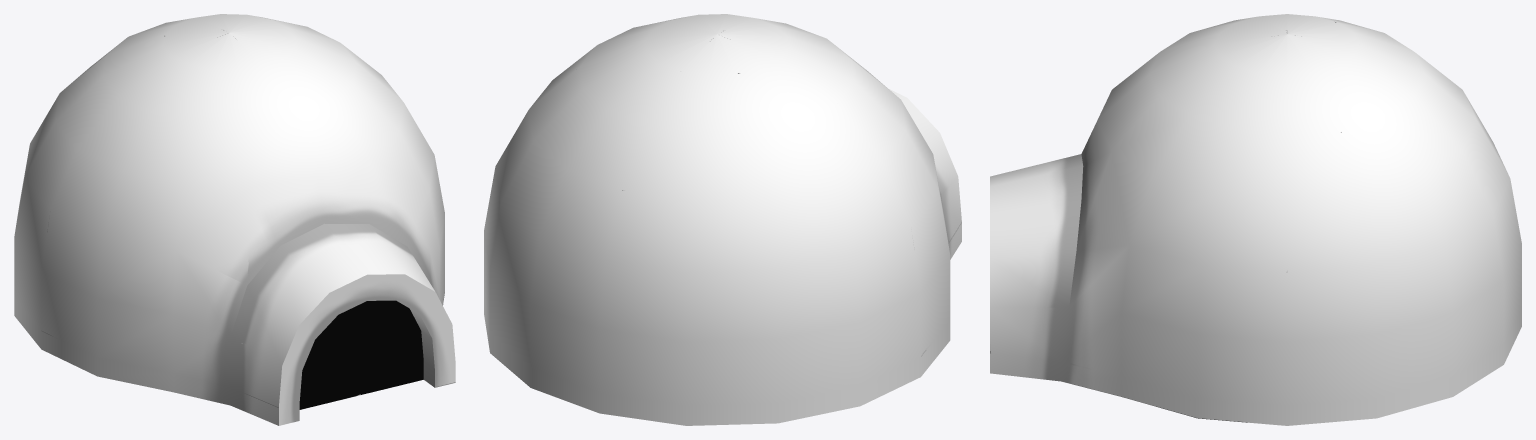
File: igloo.fbx
3 renders of one model, left to right at view 1: azimuth 30°, elevation 25°; view 2: azimuth 150°, elevation 25°; view 3: azimuth 270°, elevation 25°, orthographic. The views are drawn at different scales.
Parts seen in each view (by area): view 1: igloo; view 2: igloo; view 3: igloo.
Part boxes in pixels (x1,y1,x2,y2): igloo: [14, 14, 455, 425]; igloo: [484, 14, 961, 425]; igloo: [990, 14, 1521, 425].
Bounding box in the file's own units: 320 × 220 × 363.
Materials: 1 (1 with a texture image).
